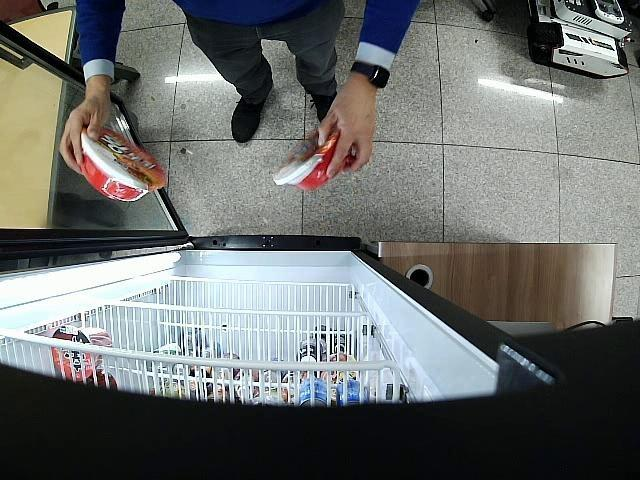10_wangTtukkeong: (78, 124, 168, 201), (272, 126, 355, 192)
